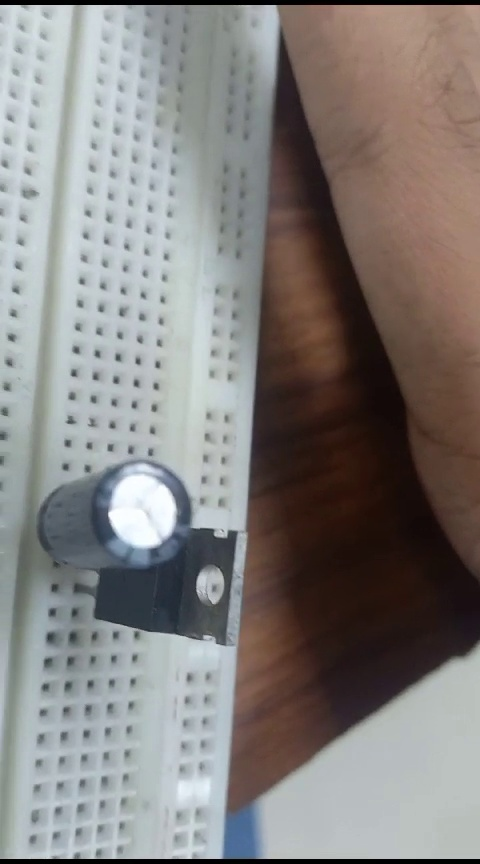voltage regulator: (32, 452, 192, 575), (138, 515, 255, 653)
